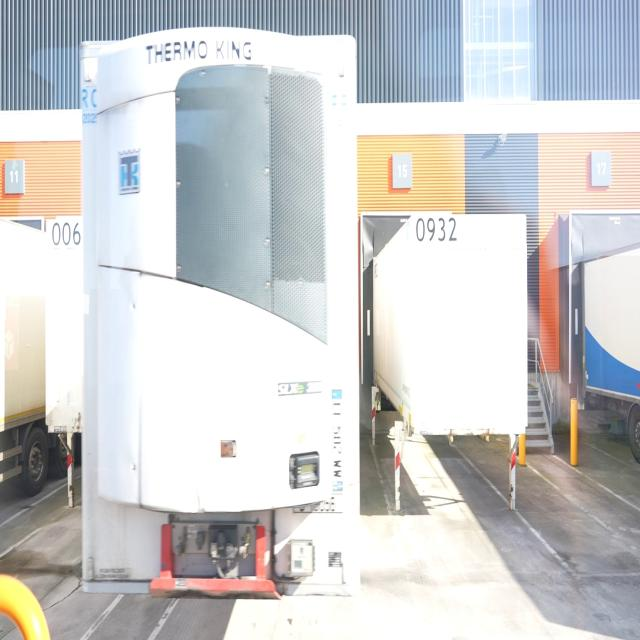Code: (413, 212, 460, 249)
